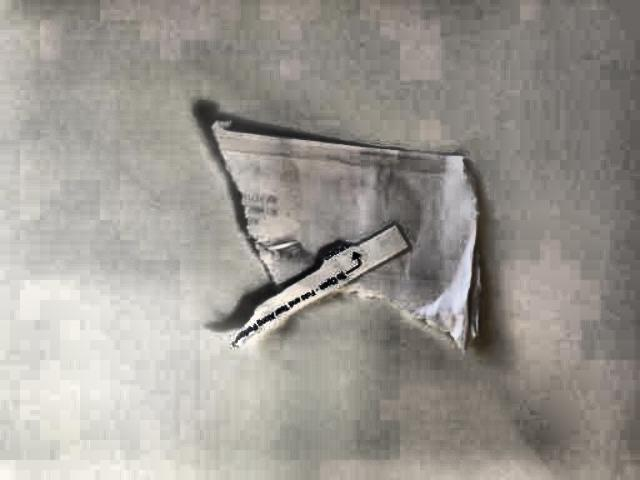Paper: (175, 109, 507, 379)
